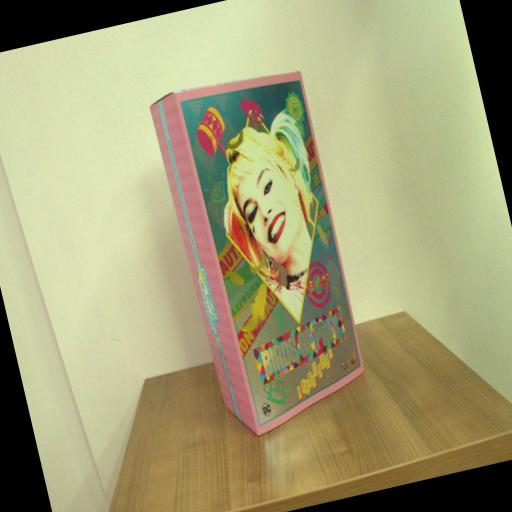Harley: (148, 62, 379, 442)
